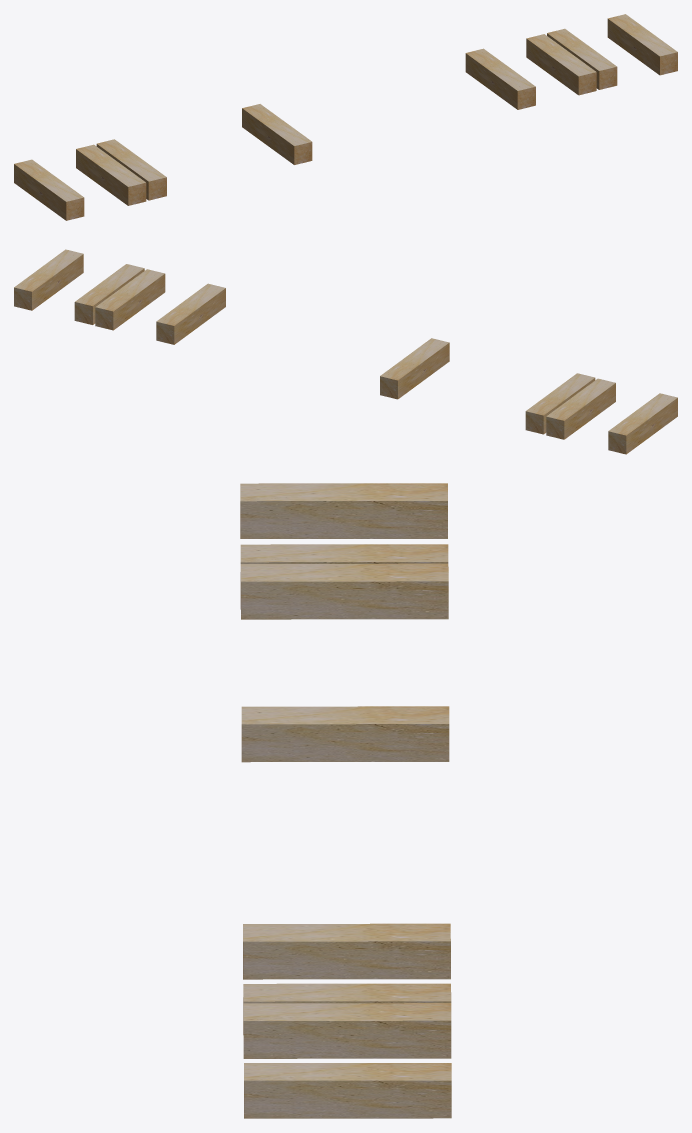
The picture shows the model from 3 angles, top to bottom: view 1: azimuth 30°, elevation 25°; view 2: azimuth 150°, elevation 25°; view 3: azimuth 270°, elevation 25°; orthographic projection. The views are drawn at different scales.
Visible parts, largest first — view 1: grupo1_Cubo.036; view 2: grupo1_Cubo.036; view 3: grupo1_Cubo.036.
Part boxes in pixels (left/top/right/bottom): grupo1_Cubo.036: left=14, top=14, right=677, bottom=220; grupo1_Cubo.036: left=14, top=249, right=677, bottom=454; grupo1_Cubo.036: left=240, top=483, right=451, bottom=1118.
Size of the model in its own units: 4.05 by 0.1217 by 0.6058.
8 materials, 8 textured.
